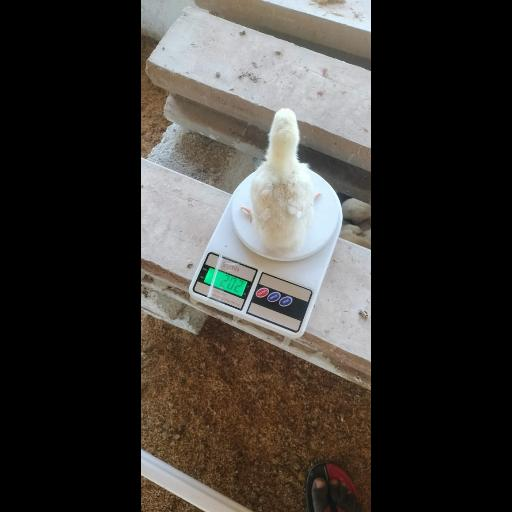chick: (240, 109, 321, 252)
